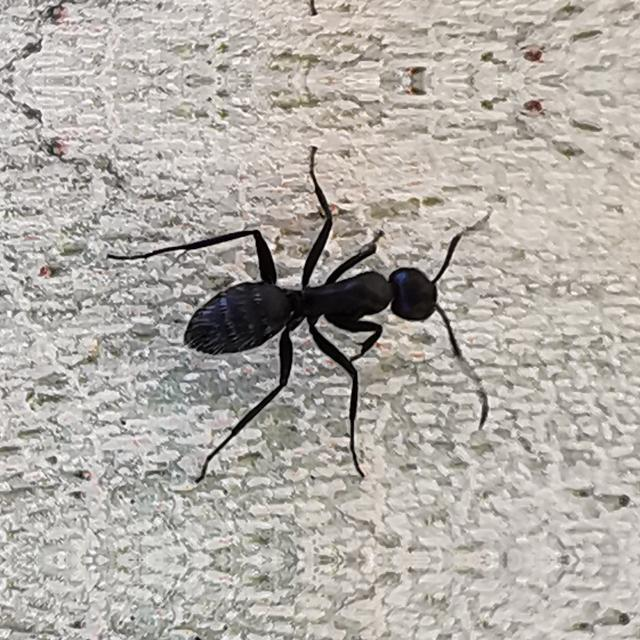Camponotus: (170, 190, 458, 422)
